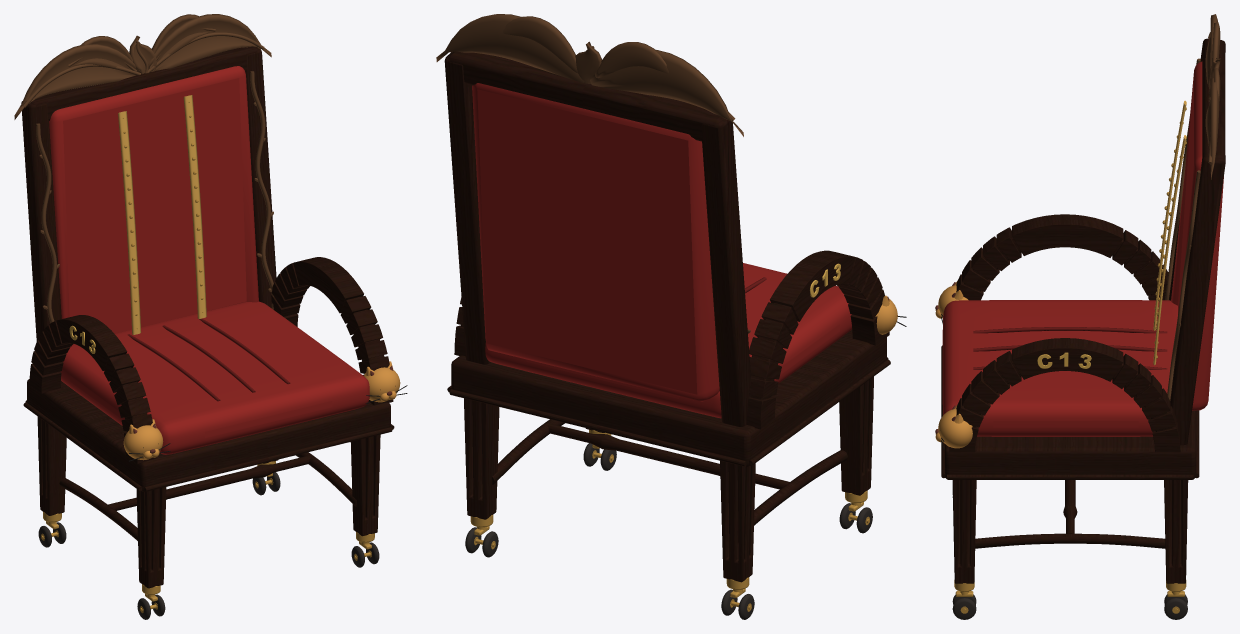
Rendered from office-chair.glb.
3 views of the same model, side by side, from view 1: azimuth 30°, elevation 25°; view 2: azimuth 150°, elevation 25°; view 3: azimuth 270°, elevation 25° (orthographic). The views are drawn at different scales.
Parts seen in each view (by area): view 1: office_chair; view 2: office_chair; view 3: office_chair.
Boxes of the visible parts, x1,y1,x2,y2 form: office_chair: [14, 14, 407, 619]; office_chair: [436, 14, 906, 619]; office_chair: [935, 14, 1225, 619].
Size of the model in its own units: 0.7805 by 1.28 by 0.6591.
11 materials, 1 textured.
